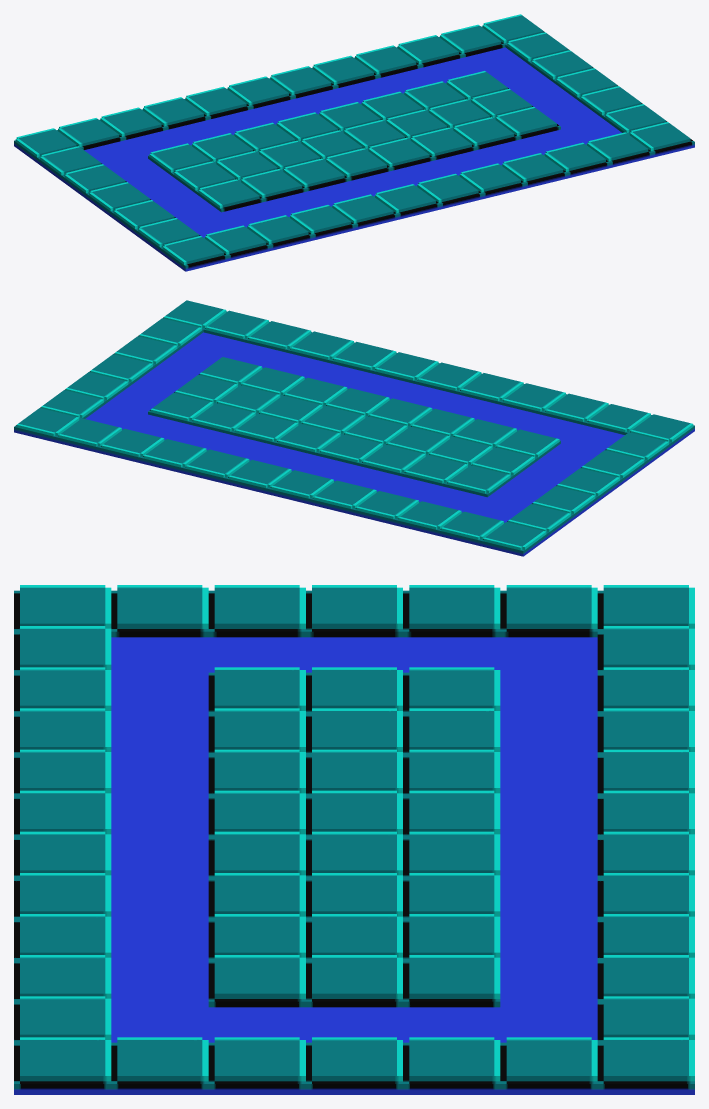
Rendered from FloorWaterIslandMiddle.glb.
The picture shows the model from 3 angles, top to bottom: view 1: azimuth 30°, elevation 25°; view 2: azimuth 150°, elevation 25°; view 3: azimuth 270°, elevation 25°; orthographic projection. The views are drawn at different scales.
Parts seen in each view (by area): view 1: FloorWaterIslandMiddle; view 2: FloorWaterIslandMiddle; view 3: FloorWaterIslandMiddle.
Part boxes in pixels (x1,y1,x2,y2): FloorWaterIslandMiddle: (14,14,694,271); FloorWaterIslandMiddle: (14,300,694,556); FloorWaterIslandMiddle: (14,585,694,1094).
Bounding box in the file's own units: 19.2 × 0.3 × 11.2.
1 material, 1 textured.
